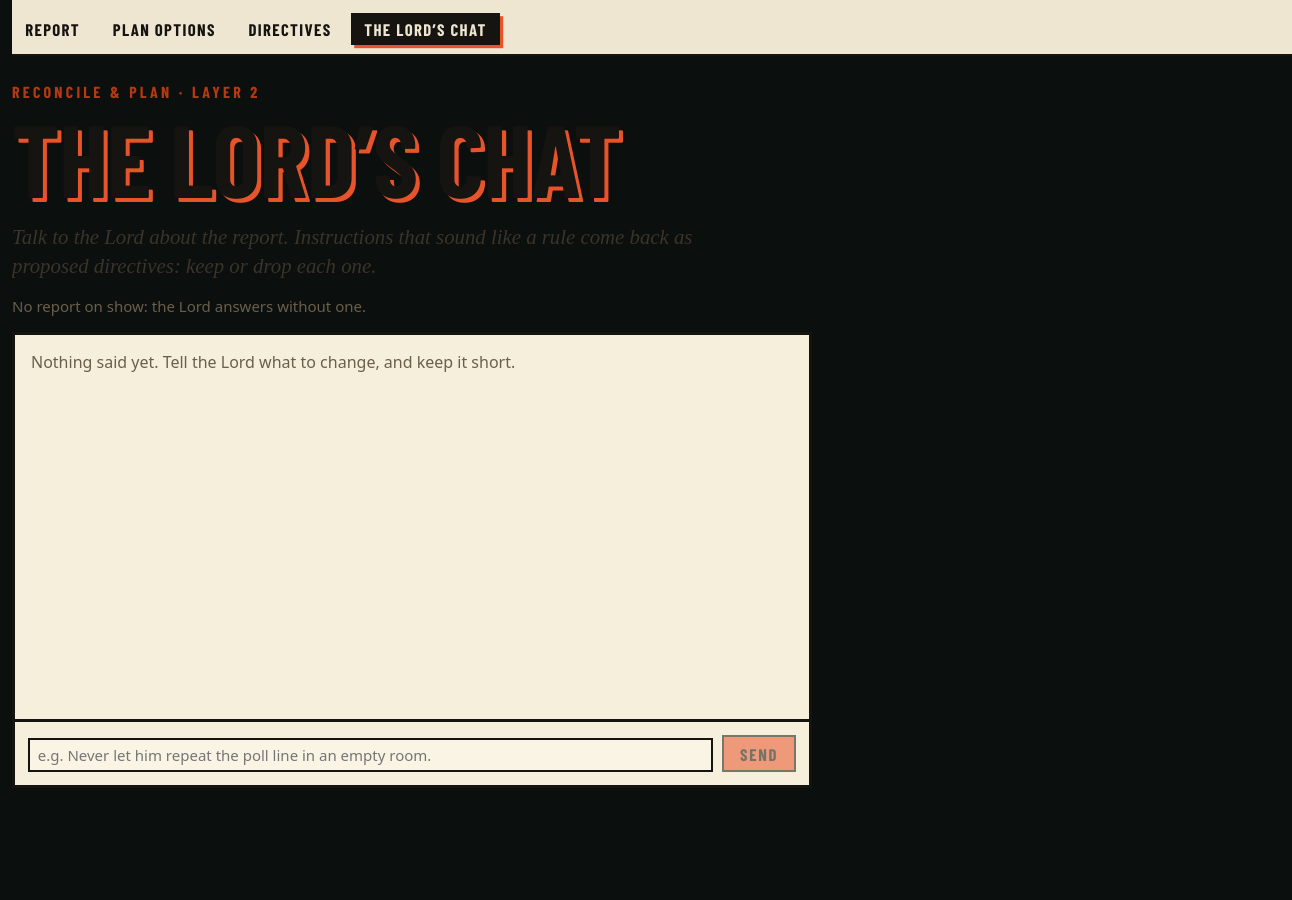
Test: reconcile/chat › keeps and drops proposed directives through the directive RPCs
This screenshot has width=1292, height=900.
Type "Fix the openings." into the field named "Message the Lord". click: (370, 755)
box: [28,738,712,772]
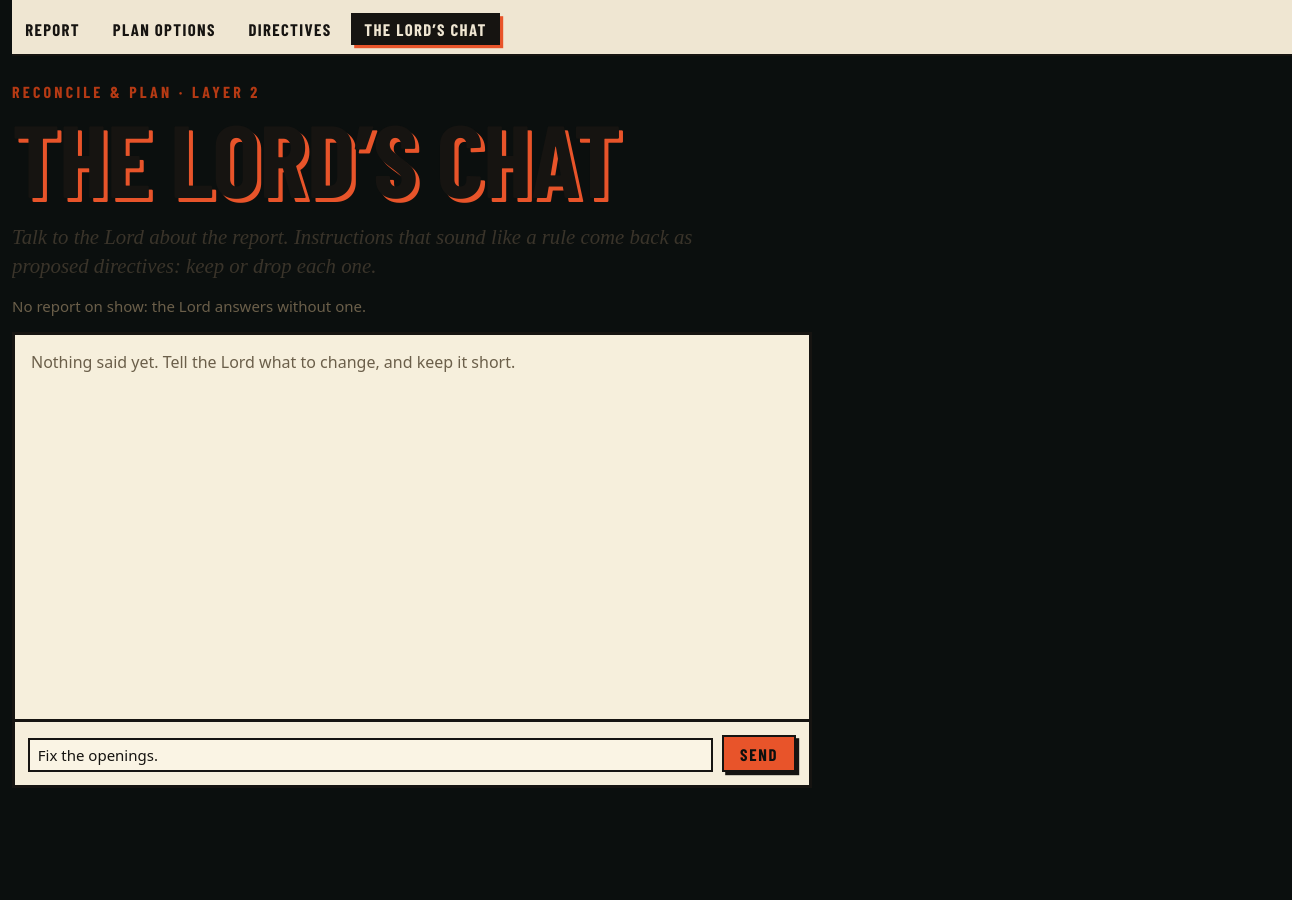
Click the button named "Send". click: click(759, 754)
box: [722,735,796,772]
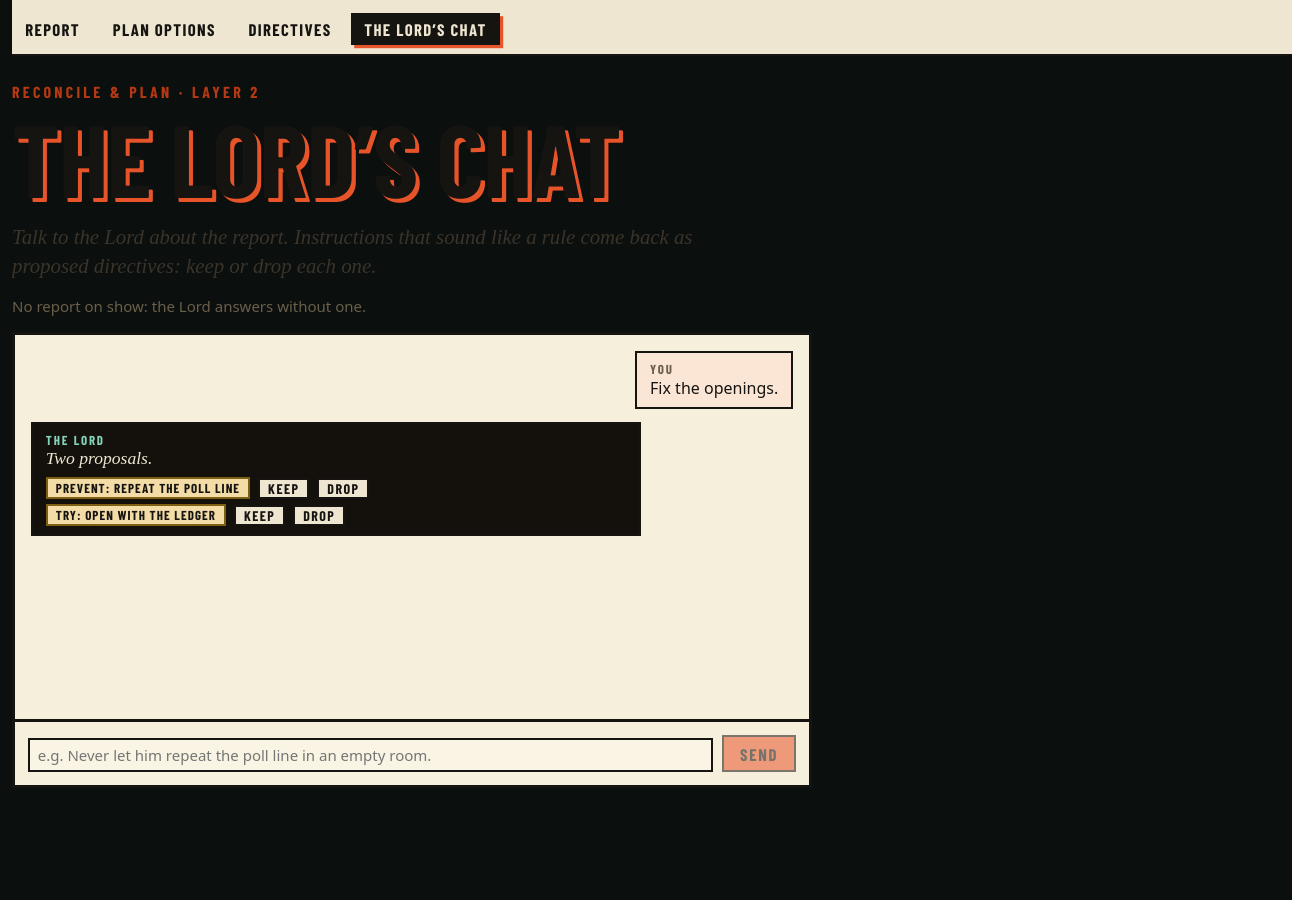
Click the button named "Keep prevent: repeat the poll line". click: click(284, 488)
box: [258,478,309,499]
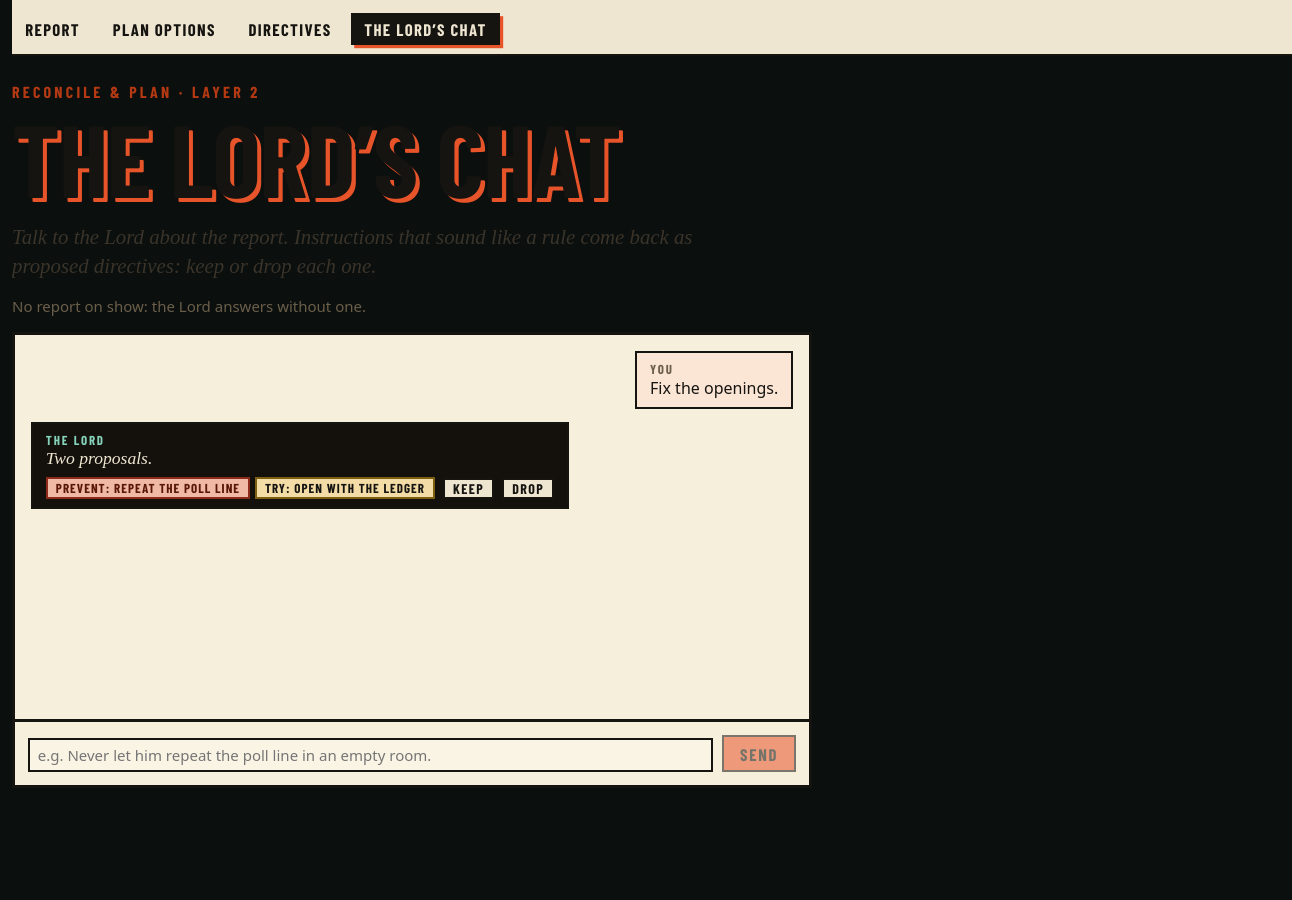
Click the button named "Drop try: open with the ledger". click: click(528, 488)
box: [502,478,554,499]
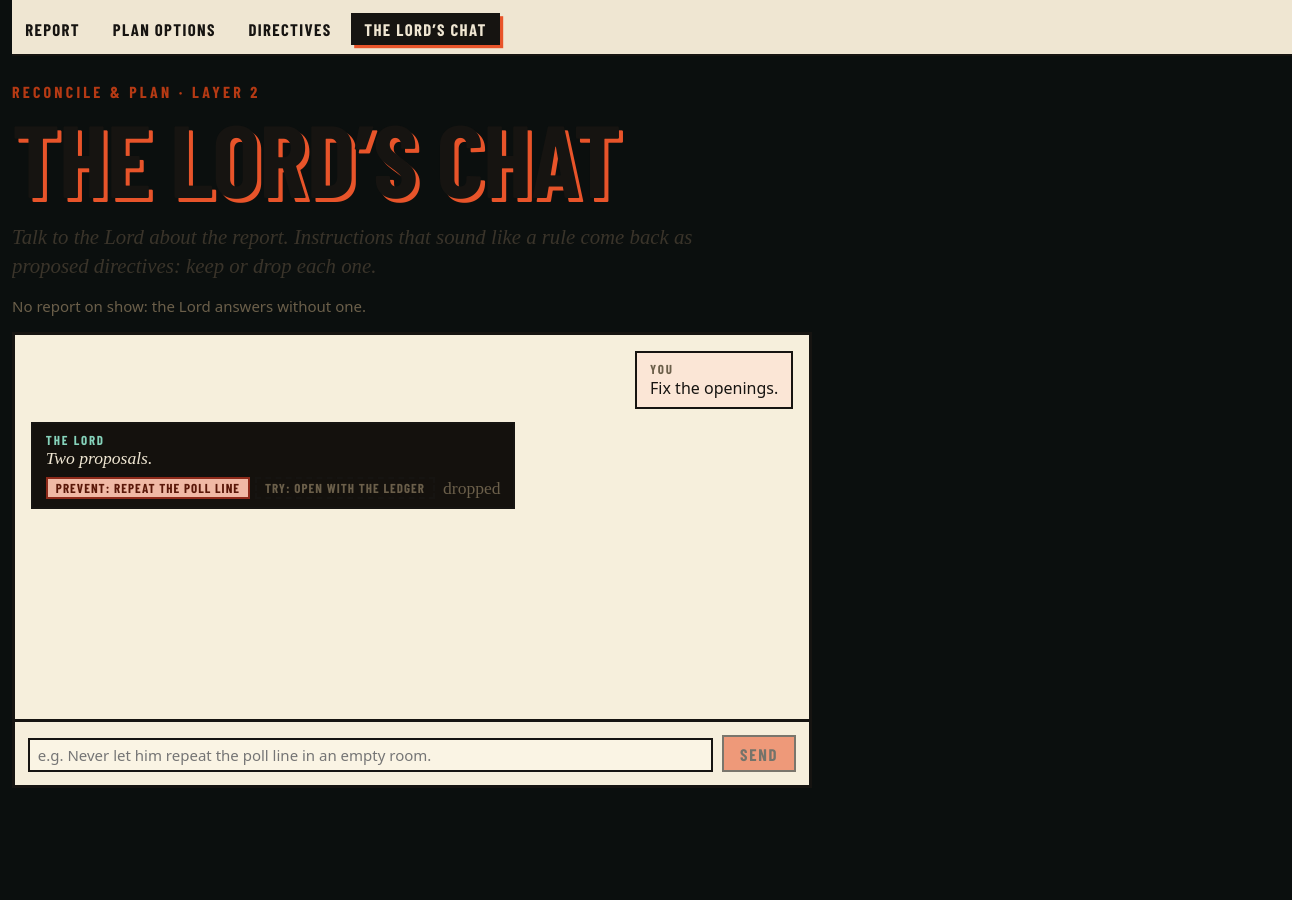
Result: the text "dropped" is shown at [443,478,501,499]
